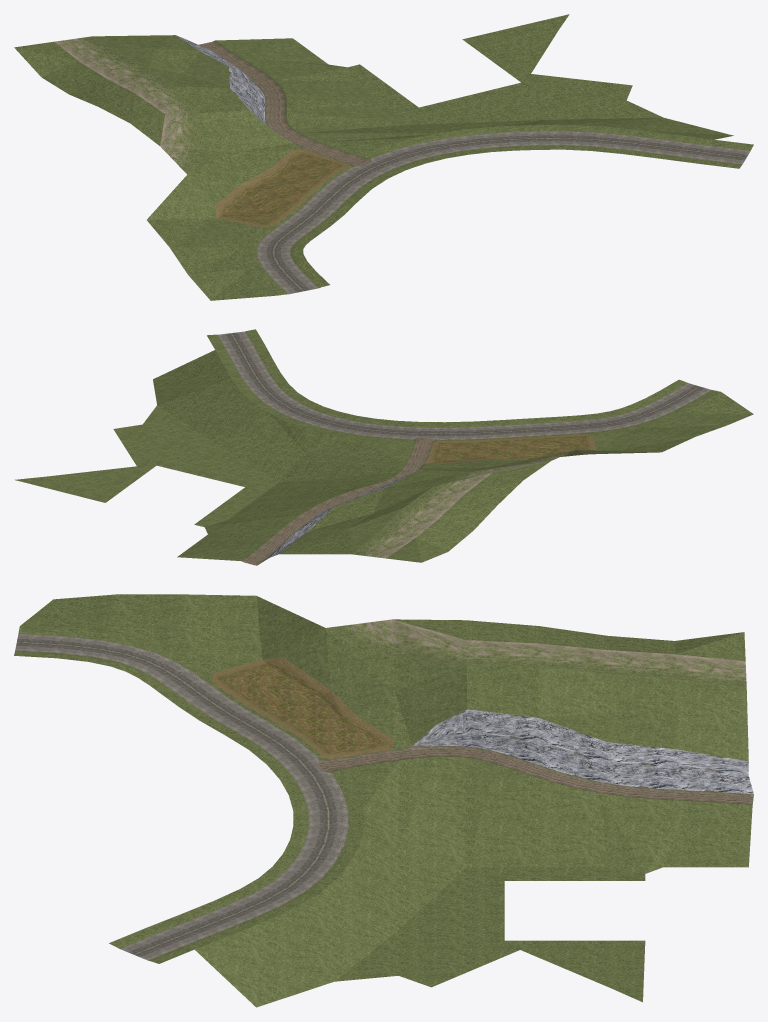
File: ne_bit_14.obj
3 views of the same model, one above another, from view 1: azimuth 30°, elevation 25°; view 2: azimuth 150°, elevation 25°; view 3: azimuth 270°, elevation 25° (orthographic). The views are drawn at different scales.
Visible parts, largest first — view 1: ne_bit_14; view 2: ne_bit_14; view 3: ne_bit_14.
Boxes of the visible parts, x1,y1,x2,y2 form: ne_bit_14: (14,14,753,300); ne_bit_14: (15,329,753,565); ne_bit_14: (14,594,753,1007).
Size of the model in its own units: 253 by 29.46 by 224.
Materials: 9 (9 with a texture image).
